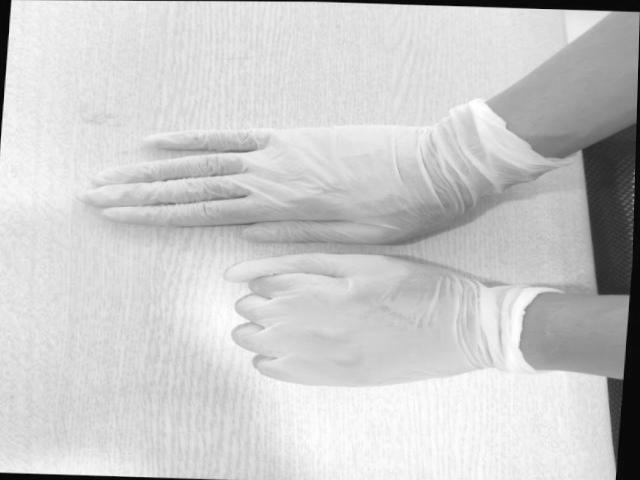gloved: (80, 125, 442, 243), (220, 252, 490, 388)
